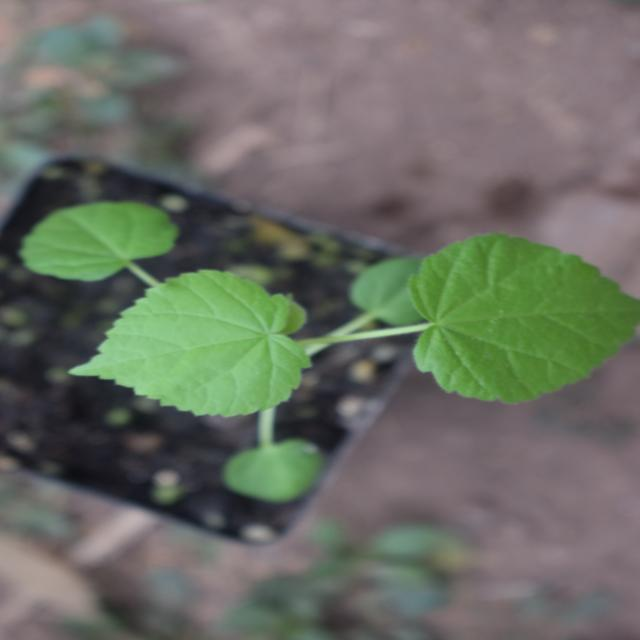abutilon theophrasti: (148, 36, 447, 615)
